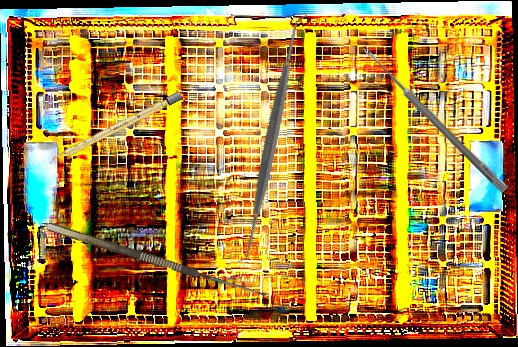Hook Surgical: (46, 210, 271, 301)
Scalpel Handle: (47, 90, 183, 167)
Spatula Surgical: (149, 13, 395, 264)
Surgical Spoon: (359, 44, 510, 194)
